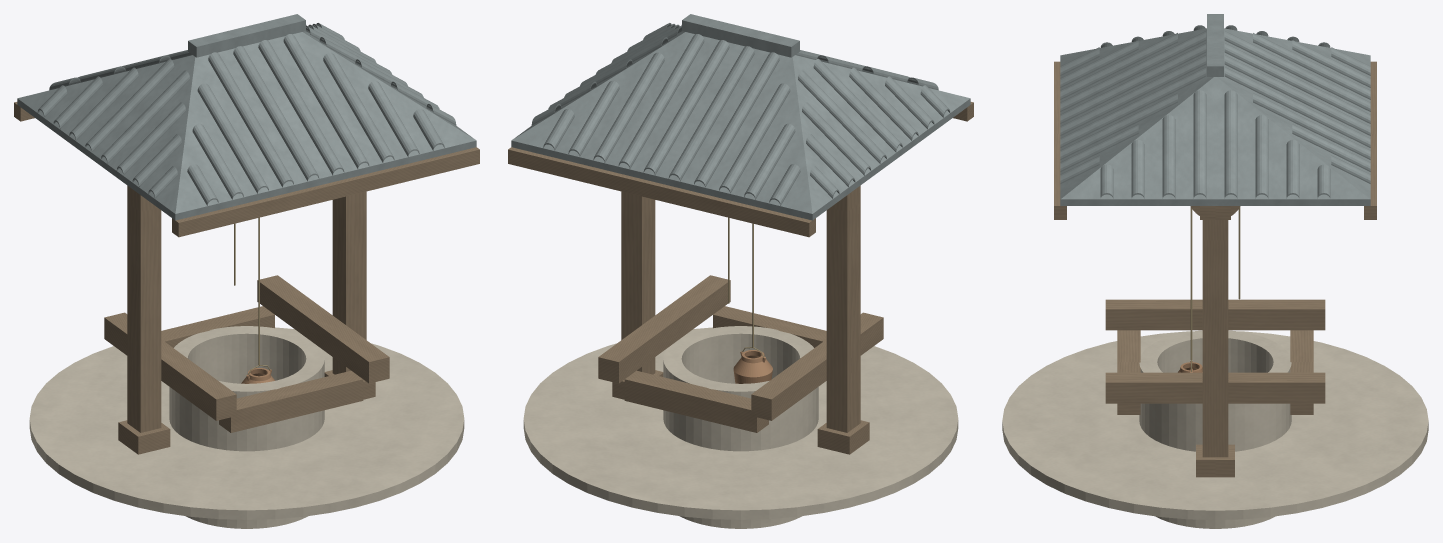
File: well-A-LOD0.glb
3 renders of one model, left to right at view 1: azimuth 30°, elevation 25°; view 2: azimuth 150°, elevation 25°; view 3: azimuth 270°, elevation 25°, orthographic.
Parts seen in each view (by area): view 1: A_LOD0__demonstration_apron_opening, A_LOD0__roof_deck_0, A_LOD0__circular_collar, A_LOD0__roof_deck_2, A_LOD0__main_post_-1, A_LOD0__eave_tie, A_LOD0__rim_long_1, A_LOD0__main_post_1, A_LOD0__rim_cross_-1, A_LOD0__rim_long_-1, A_LOD0__ridge_cap, A_LOD0__rim_cross_1 (+14 smaller); view 2: A_LOD0__demonstration_apron_opening, A_LOD0__roof_deck_1, A_LOD0__circular_collar, A_LOD0__roof_deck_2, A_LOD0__main_post_-1, A_LOD0__eave_tie.001, A_LOD0__rim_long_1, A_LOD0__main_post_1, A_LOD0__rim_cross_1, A_LOD0__rim_long_-1, A_LOD0__ridge_cap, A_LOD0__rim_cross_-1 (+15 smaller); view 3: A_LOD0__demonstration_apron_opening, A_LOD0__roof_deck_3, A_LOD0__circular_collar, A_LOD0__main_post_1, A_LOD0__rim_long_1, A_LOD0__rim_long_-1, A_LOD0__roof_deck_0, A_LOD0__roof_deck_1, A_LOD0__rim_cross_-1, A_LOD0__rim_cross_1, A_LOD0__eave_tie, A_LOD0__eave_tie.001 (+14 smaller).
Boxes of the visible parts, x1,y1,x2,y2 form: A_LOD0__demonstration_apron_opening: (29, 327, 464, 519); A_LOD0__roof_deck_0: (175, 32, 476, 220); A_LOD0__circular_collar: (169, 326, 324, 451); A_LOD0__roof_deck_2: (17, 55, 195, 219); A_LOD0__main_post_-1: (127, 185, 161, 432); A_LOD0__eave_tie: (172, 147, 479, 237); A_LOD0__rim_long_1: (257, 275, 389, 383); A_LOD0__main_post_1: (332, 191, 366, 374); A_LOD0__rim_cross_-1: (219, 370, 363, 432); A_LOD0__rim_long_-1: (104, 312, 236, 420); A_LOD0__ridge_cap: (188, 14, 305, 57); A_LOD0__rim_cross_1: (161, 306, 274, 347); A_LOD0__demonstration_apron_opening: (523, 327, 958, 519); A_LOD0__roof_deck_1: (511, 32, 812, 220); A_LOD0__circular_collar: (663, 326, 818, 451); A_LOD0__roof_deck_2: (792, 55, 970, 219); A_LOD0__main_post_-1: (826, 185, 860, 432); A_LOD0__eave_tie.001: (508, 147, 815, 237); A_LOD0__rim_long_1: (598, 275, 730, 383); A_LOD0__main_post_1: (621, 191, 655, 374); A_LOD0__rim_cross_1: (624, 370, 768, 432); A_LOD0__rim_long_-1: (751, 312, 883, 420); A_LOD0__ridge_cap: (682, 14, 799, 57); A_LOD0__rim_cross_-1: (713, 306, 826, 347); A_LOD0__demonstration_apron_opening: (1002, 331, 1428, 519); A_LOD0__roof_deck_3: (1060, 77, 1370, 205); A_LOD0__circular_collar: (1139, 330, 1291, 451); A_LOD0__main_post_1: (1202, 220, 1228, 457); A_LOD0__rim_long_1: (1105, 372, 1325, 403); A_LOD0__rim_long_-1: (1105, 299, 1325, 330); A_LOD0__roof_deck_0: (1060, 28, 1213, 199); A_LOD0__roof_deck_1: (1217, 28, 1370, 199); A_LOD0__rim_cross_-1: (1117, 330, 1140, 414); A_LOD0__rim_cross_1: (1290, 330, 1313, 414); A_LOD0__eave_tie: (1054, 61, 1066, 219); A_LOD0__eave_tie.001: (1364, 61, 1376, 219).
Size of the model in its own units: 3.3 by 3.9 by 3.3.
Materials: 5 (3 with a texture image).
